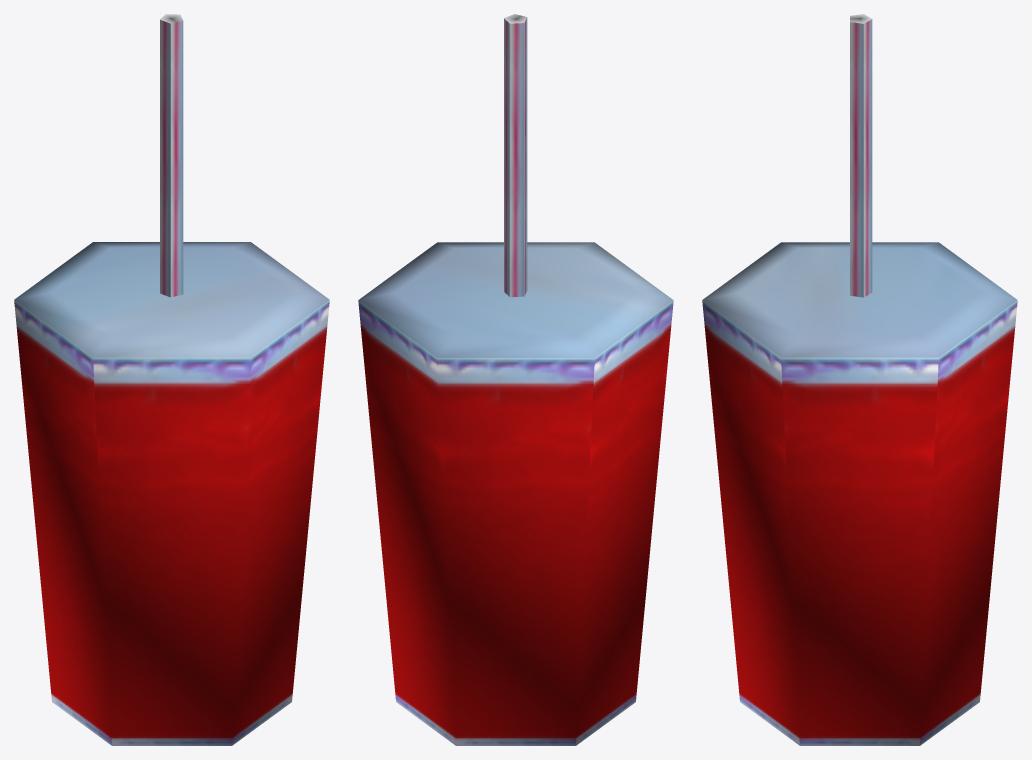
File: cola_ing.fbx
3 views of the same model, side by side, from view 1: azimuth 30°, elevation 25°; view 2: azimuth 150°, elevation 25°; view 3: azimuth 270°, elevation 25° (orthographic).
Parts seen in each view (by area): view 1: Soda_Cup; view 2: Soda_Cup; view 3: Soda_Cup.
Boxes of the visible parts, <box> form: Soda_Cup: <box>14,14,329,745</box>; Soda_Cup: <box>358,14,673,745</box>; Soda_Cup: <box>702,14,1017,745</box>.
Size of the model in its own units: 24.22 by 66.8 by 27.97.
